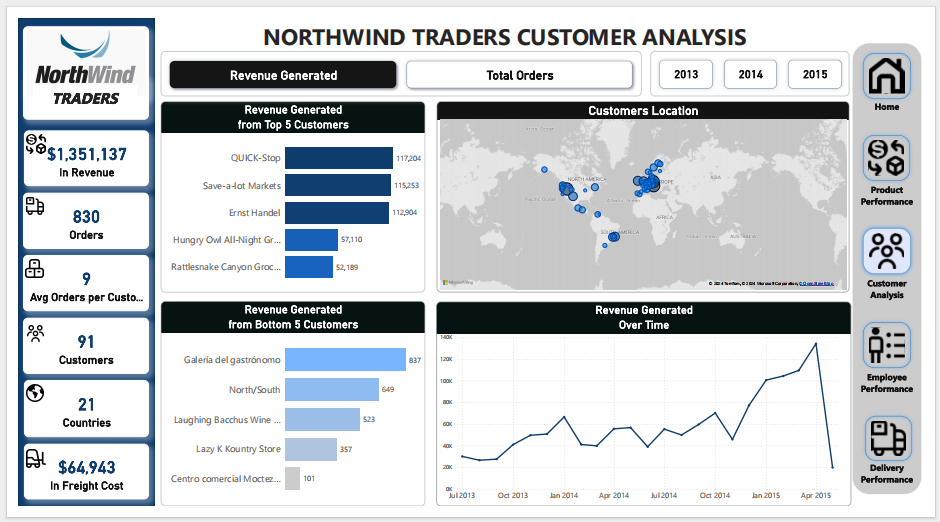

The page's visual inventory and layout, read from the dashboard file:
{"tool":"powerbi","page":{"name":"Customer Analysis","canvas":[1950,1050],"ordinal":2},"visuals":[{"type":"shape","box":[154.1,0,291.4,1050],"z":0},{"type":"actionButton","box":[21.3,47.1,118.2,113.6],"z":0,"group":"g16"},{"type":"actionButton","box":[20.4,626.8,118.2,113.6],"z":0,"group":"g15"},{"type":"actionButton","box":[24.8,828.3,117.6,113.4],"z":0,"group":"g14"},{"type":"advancedSlicerVisual","fields":{"Values":["Metric Selection.Metric"]},"box":[463.1,98.7,1045.8,98.7],"z":1000},{"type":"actionButton","box":[19.5,223.4,117.8,113.4],"z":1000,"group":"g12"},{"type":"lineChart","fields":{"Category":["Orders.orderDate.Variation.Date Hierarchy.Year","Orders.orderDate.Variation.Date Hierarchy.Month"],"Y":["Metric Selection.Selected Measure"]},"box":[1053.7,620.2,888.6,422.7],"z":1000,"group":"g9"},{"type":"textbox","box":[471.5,18.9,1478.4,75.6],"z":2000},{"type":"actionButton","box":[20.4,425.3,117.4,112.9],"z":2000,"group":"g13"},{"type":"advancedSlicerVisual","fields":{"Values":["Orders.orderDate.Variation.Date Hierarchy.Year"]},"box":[1519.4,98.7,430.5,98.7],"z":3000},{"type":"shape","box":[169.9,124.3,259.3,81.4],"z":4000,"group":"g7"},{"type":"actionButton","box":[0,318.4,159.6,84],"z":4000,"group":"g12"},{"type":"group","id":"g1","title":"Group 6","box":[170.2,919.3,259.3,98.6],"z":4000},{"type":"actionButton","box":[0,520.2,160,85.1],"z":5000,"group":"g13"},{"type":"group","id":"g2","title":"Group 7","box":[169.9,782.7,260,103],"z":5000},{"type":"image","box":[170.6,31,259.3,141.1],"z":6000,"group":"g11"},{"type":"actionButton","box":[0,142.2,159.6,58.8],"z":6000,"group":"g16"},{"type":"card","title":"Total Revenue","fields":{"Values":["Sum(order_details.Revenue Generated)"]},"box":[170.2,246.6,259.3,98.6],"z":6000,"group":"g6"},{"type":"group","id":"g3","title":"Group 8","box":[169.9,649.2,260,100],"z":6000},{"type":"actionButton","box":[0,721.7,160,85.1],"z":6000,"group":"g15"},{"type":"actionButton","box":[0,917.7,160,85.1],"z":6000,"group":"g14"},{"type":"group","id":"g4","title":"Group 9","box":[169.9,512.4,260,103.2],"z":7000},{"type":"card","title":"Number of Countries","fields":{"Values":["Count(customers.country)"]},"box":[169.9,785.7,260,100],"z":7000,"group":"g2"},{"type":"textbox","box":[192.5,145.8,212,60.9],"z":8000,"group":"g11"},{"type":"group","id":"g5","title":"Group 10","box":[169.9,378.8,260,100],"z":8000},{"type":"group","id":"g6","title":"Group 11","box":[170.2,240.2,259.3,105],"z":9000},{"type":"card","title":"Number of Orders","fields":{"Values":["Count(order_details.orderID)"]},"box":[169.9,378.8,260,100],"z":9000,"group":"g5"},{"type":"group","id":"g7","title":"Group 14","box":[169.9,31,260,175.7],"z":10000},{"type":"group","id":"g8","title":"Group 5","box":[0,47.1,158.6,955.7],"z":11000},{"type":"card","title":"Number of Customers","fields":{"Values":["CountNonNull(customers.customerID)"]},"box":[169.9,515.6,260,100],"z":11000,"group":"g4"},{"type":"group","id":"g9","title":"Group 6","box":[462.9,205.7,1480.7,835.7],"z":12000},{"type":"clusteredBarChart","fields":{"Category":["customers.companyName"],"Y":["Metric Selection.Selected Measure"]},"box":[462.9,205.9,566.6,395.4],"z":12000,"group":"g9"},{"type":"image","box":[171.1,240.2,46.2,54.6],"z":14000,"group":"g6"},{"type":"image","box":[172.9,512.4,44.1,54.6],"z":15000,"group":"g4"},{"type":"clusteredBarChart","fields":{"Category":["customers.companyName"],"Y":["Metric Selection.Selected Measure"]},"box":[462.9,619.3,566.6,423.7],"z":16000,"group":"g9"},{"type":"image","box":[171.8,782.7,46.2,54.6],"z":16000,"group":"g2"},{"type":"card","title":"Number of Products","fields":{"Values":["CountNonNull(products.productID)"]},"box":[169.9,649.2,260,100],"z":17000,"group":"g3"},{"type":"image","box":[170.8,379.8,46.2,54.6],"z":18000,"group":"g5"},{"type":"card","title":"Total Freight Cost","fields":{"Values":["Sum(Orders.freight)"]},"box":[170.2,919.3,260,100],"z":19000,"group":"g1"},{"type":"image","box":[170.8,650.2,46.2,54.6],"z":20000,"group":"g3"},{"type":"group","id":"g10","title":"Group 13","box":[170.6,31,259.3,175.7],"z":21000,"group":"g7"},{"type":"map","title":"Customers Location","fields":{"Size":["Metric Selection.Selected Measure"],"Category":["customers.country","customers.city"]},"box":[1054.6,205.7,884.5,395.4],"z":22000,"group":"g9"},{"type":"group","id":"g11","title":"Group 12","box":[170.6,31,259.3,175.7],"z":22006,"group":"g10"},{"type":"group","id":"g12","title":"Group 1","box":[0,223.4,159.6,179],"z":24000,"group":"g8"},{"type":"image","box":[171.1,920.3,50.4,52.5],"z":24000,"group":"g1"},{"type":"group","id":"g13","title":"Group 2","box":[0,425.3,159.6,178.5],"z":25000,"group":"g8"},{"type":"group","id":"g14","title":"Group 4","box":[0,828.3,159.6,174.3],"z":26000,"group":"g8"},{"type":"group","id":"g15","title":"Group 3","box":[0,626.8,159.6,178.5],"z":27000,"group":"g8"},{"type":"group","id":"g16","title":"Group 4","box":[0,47.1,159.6,153.3],"z":28000,"group":"g8"}]}

Visuals, with their boxes on the page's 1950x1050 design canvas (x1, y1, x2, y2). These are canvas units, not pixel positions in the 940x522 screenshot, which may show the page scaled, cropped or inside an application window:
shape: 154/0/446/1050
actionButton: 21/47/140/161
actionButton: 20/627/139/740
actionButton: 25/828/142/942
advancedSlicerVisual - Metric Selection.Metric: 463/99/1509/197
actionButton: 20/223/137/337
lineChart - Orders.orderDate.Variation.Date Hierarchy.Year x Orders.orderDate.Variation.Date Hierarchy.Month: 1054/620/1942/1043
textbox: 472/19/1950/94
actionButton: 20/425/138/538
advancedSlicerVisual - Orders.orderDate.Variation.Date Hierarchy.Year: 1519/99/1950/197
shape: 170/124/429/206
actionButton: 0/318/160/402
"Group 6" group: 170/919/430/1018
actionButton: 0/520/160/605
"Group 7" group: 170/783/430/886
image: 171/31/430/172
actionButton: 0/142/160/201
"Total Revenue" card: 170/247/430/345
"Group 8" group: 170/649/430/749
actionButton: 0/722/160/807
actionButton: 0/918/160/1003
"Group 9" group: 170/512/430/616
"Number of Countries" card: 170/786/430/886
textbox: 192/146/404/207
"Group 10" group: 170/379/430/479
"Group 11" group: 170/240/430/345
"Number of Orders" card: 170/379/430/479
"Group 14" group: 170/31/430/207
"Group 5" group: 0/47/159/1003
"Number of Customers" card: 170/516/430/616
"Group 6" group: 463/206/1944/1041
clusteredBarChart - customers.companyName x Metric Selection.Selected Measure: 463/206/1030/601
image: 171/240/217/295
image: 173/512/217/567
clusteredBarChart - customers.companyName x Metric Selection.Selected Measure: 463/619/1030/1043
image: 172/783/218/837
"Number of Products" card: 170/649/430/749
image: 171/380/217/434
"Total Freight Cost" card: 170/919/430/1019
image: 171/650/217/705
"Group 13" group: 171/31/430/207
"Customers Location" map: 1055/206/1939/601
"Group 12" group: 171/31/430/207
"Group 1" group: 0/223/160/402
image: 171/920/222/973
"Group 2" group: 0/425/160/604
"Group 4" group: 0/828/160/1003
"Group 3" group: 0/627/160/805
"Group 4" group: 0/47/160/200
